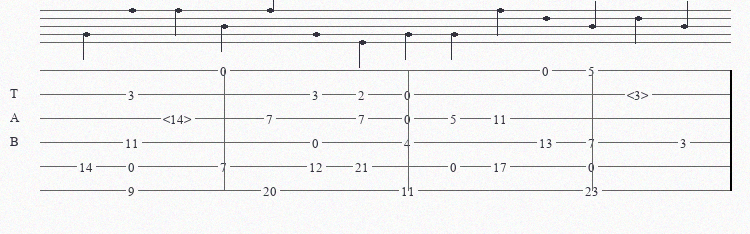0: (128, 160, 139, 173), (220, 64, 231, 77), (312, 136, 323, 149), (404, 112, 415, 125), (404, 88, 415, 101), (450, 160, 461, 173), (542, 64, 553, 77), (588, 160, 599, 173)
11: (125, 136, 143, 149), (401, 184, 419, 197), (493, 112, 511, 125)
12: (309, 160, 327, 173)
13: (539, 136, 557, 149)
14: (79, 160, 97, 173)
17: (493, 160, 511, 173)
2: (358, 88, 369, 101)
20: (263, 184, 281, 197)
21: (355, 160, 373, 173)
23: (585, 184, 603, 197)
3: (128, 88, 139, 101), (312, 88, 323, 101), (680, 136, 691, 149)
4: (404, 136, 415, 149)
5: (450, 112, 461, 125), (588, 64, 599, 77)
7: (220, 160, 231, 173), (266, 112, 277, 125), (358, 112, 369, 125), (588, 136, 599, 149)
9: (128, 184, 139, 197)
harmonic: (163, 112, 196, 125), (627, 88, 653, 101)
